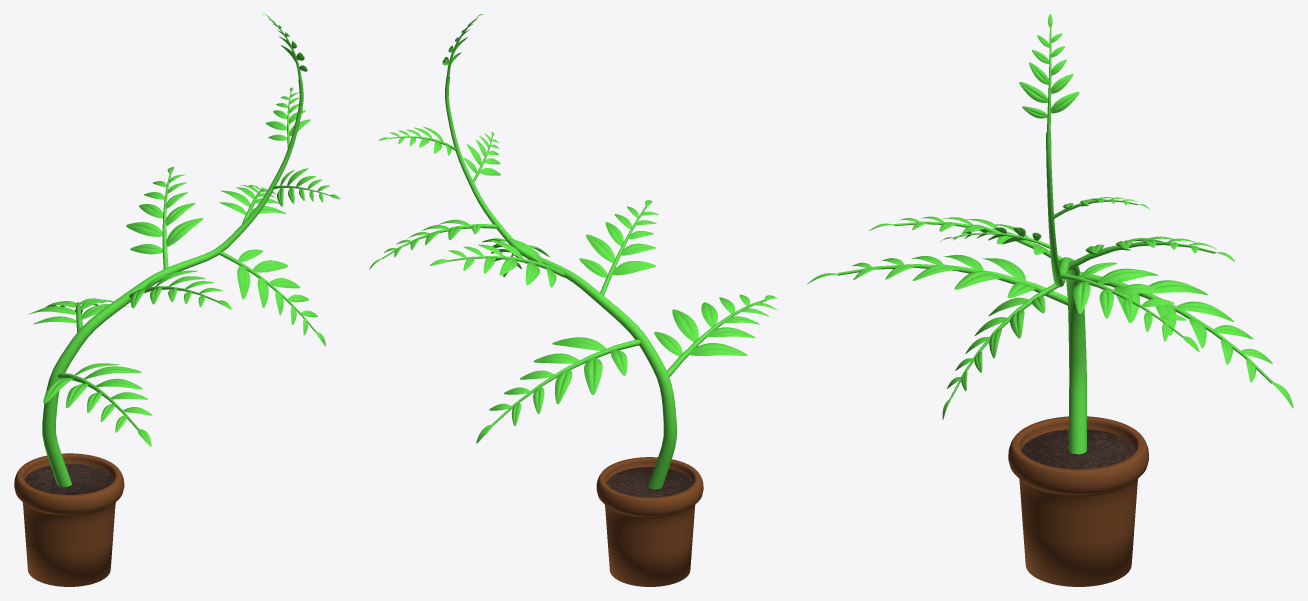
The model's file is plant1.glb.
The picture shows the model from 3 angles, left to right: view 1: azimuth 30°, elevation 25°; view 2: azimuth 150°, elevation 25°; view 3: azimuth 270°, elevation 25°; orthographic projection. The views are drawn at different scales.
Visible parts, largest first — view 1: PlantPot, Plant, Vert.002, Vert.005, Vert.006, Vert.004, Vert.003, Vert.007, Vert.008, Vert.009, Vert.010; view 2: PlantPot, Plant, Vert.003, Vert.002, Vert.004, Vert.005, Vert.007, Vert.008, Vert.009; view 3: PlantPot, Plant, Vert.003, Vert.002, Vert.007, Vert.006, Vert.010, Vert.004, Vert.005, Vert.008.
Part boxes in pixels (box(x1,y1,x2,y2)): PlantPot: box(14, 453, 124, 586); Plant: box(42, 80, 303, 486); Vert.002: box(43, 363, 152, 446); Vert.005: box(126, 167, 203, 268); Vert.006: box(219, 249, 325, 346); Vert.004: box(129, 270, 231, 309); Vert.003: box(28, 298, 128, 332); Vert.007: box(219, 185, 286, 223); Vert.008: box(272, 168, 340, 206); Vert.009: box(265, 87, 310, 148); Vert.010: box(262, 14, 307, 80); PlantPot: box(596, 457, 703, 586); Plant: box(445, 77, 676, 489); Vert.003: box(476, 337, 640, 443); Vert.002: box(654, 294, 777, 377); Vert.004: box(579, 200, 658, 295); Vert.005: box(429, 237, 564, 287); Vert.007: box(369, 219, 496, 269); Vert.008: box(463, 132, 500, 182); Vert.009: box(378, 126, 455, 155); PlantPot: box(1008, 416, 1148, 586); Plant: box(1046, 132, 1086, 454); Vert.003: box(1079, 270, 1293, 408); Vert.002: box(807, 255, 1068, 305); Vert.007: box(1058, 262, 1199, 351); Vert.006: box(942, 283, 1058, 419); Vert.010: box(1019, 14, 1079, 133); Vert.004: box(869, 216, 1062, 262); Vert.005: box(1068, 236, 1235, 270); Vert.008: box(940, 227, 1050, 249).
Bounding box in the file's own units: 4.25 × 6.71 × 4.46.
3 materials, 1 textured.
